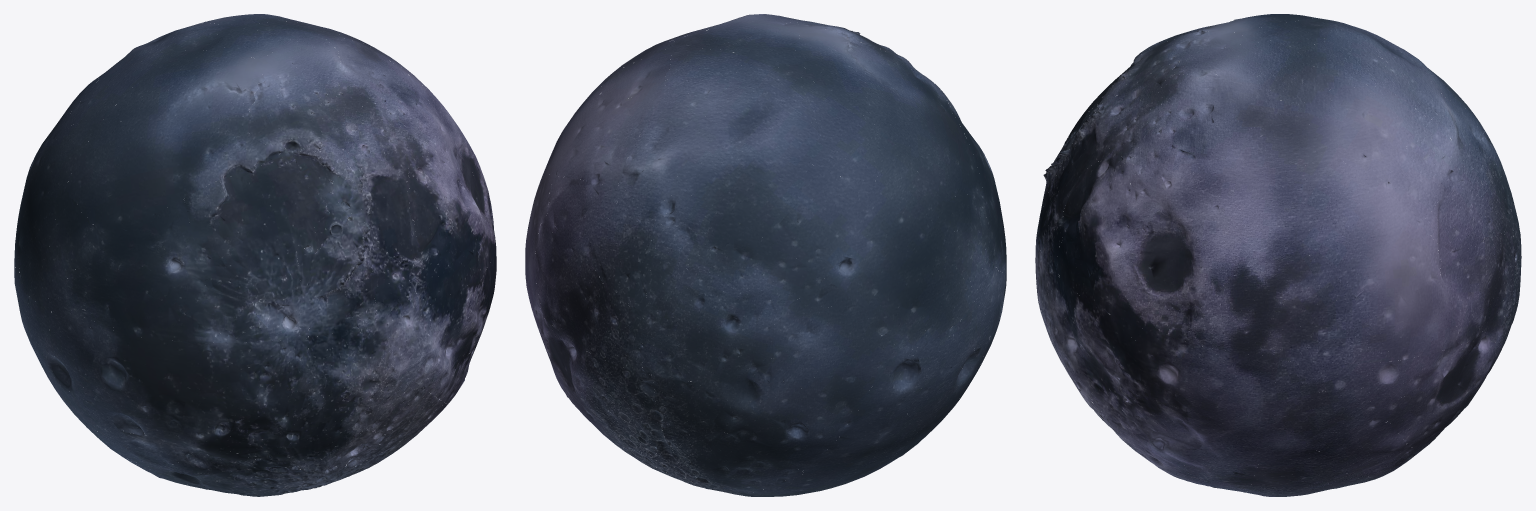
Rendered from luna-celestial.glb.
3 renders of one model, left to right at view 1: azimuth 30°, elevation 25°; view 2: azimuth 150°, elevation 25°; view 3: azimuth 270°, elevation 25°, orthographic.
Visible parts, largest first — view 1: tripo_node_30f43b5a-b6bf-4d68-a9e7-3087988c83e7; view 2: tripo_node_30f43b5a-b6bf-4d68-a9e7-3087988c83e7; view 3: tripo_node_30f43b5a-b6bf-4d68-a9e7-3087988c83e7.
Part boxes in pixels (<box>): tripo_node_30f43b5a-b6bf-4d68-a9e7-3087988c83e7: <box>14,14,496,496</box>; tripo_node_30f43b5a-b6bf-4d68-a9e7-3087988c83e7: <box>525,14,1006,496</box>; tripo_node_30f43b5a-b6bf-4d68-a9e7-3087988c83e7: <box>1035,14,1521,496</box>.
Size of the model in its own units: 0.9772 by 0.9807 by 0.9774.
Materials: 1 (1 with a texture image).
